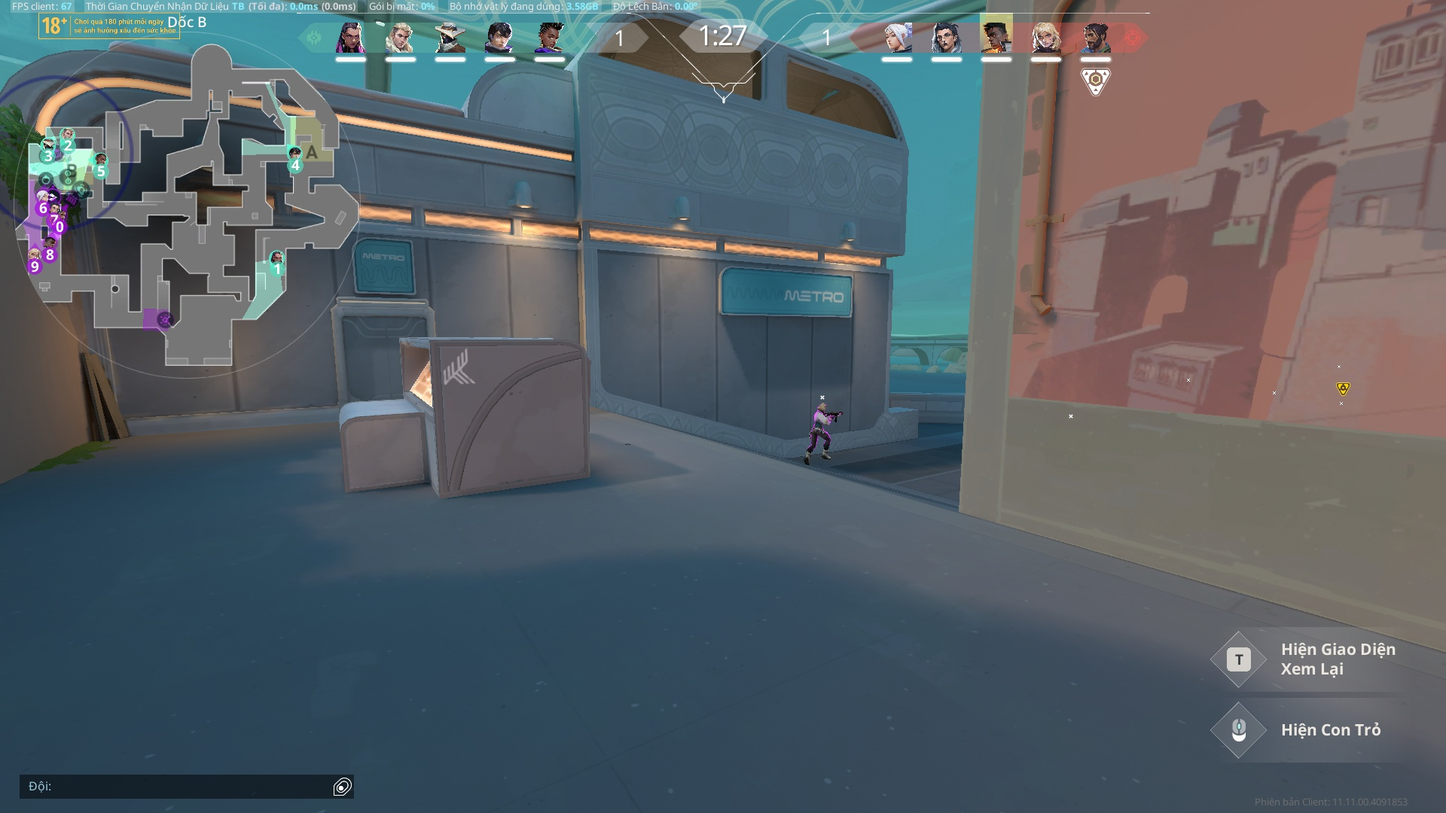body: (813, 410, 828, 431)
head: (816, 401, 827, 412)
